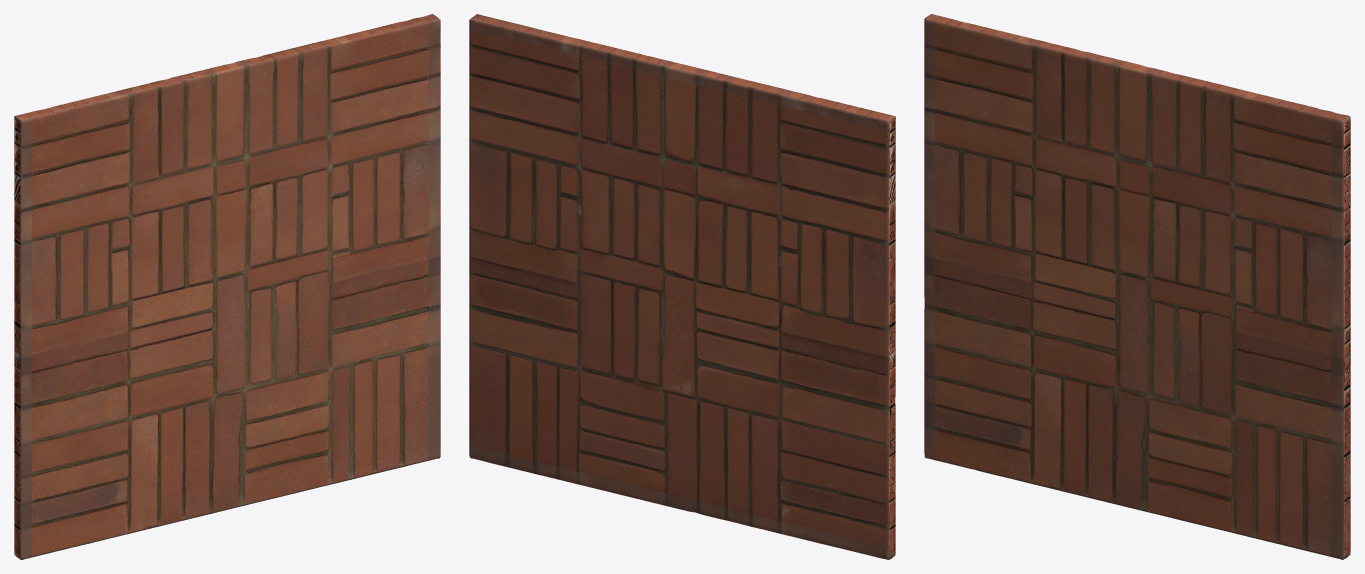
Rendered from Meshy_AI_Brick_Pattern_Tiles_0221024514_texture.glb.
The picture shows the model from 3 angles, left to right: view 1: azimuth 30°, elevation 25°; view 2: azimuth 150°, elevation 25°; view 3: azimuth 330°, elevation 25°; orthographic projection.
Size of the model in its own units: 2 by 2 by 0.0622.
1 material, 1 textured.
